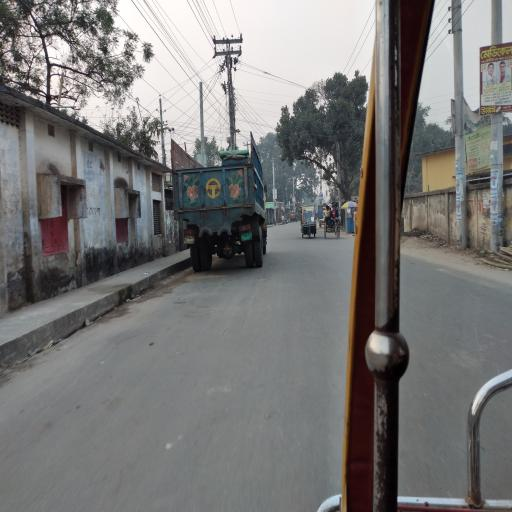auto rickshaw: (301, 205, 319, 240)
bicycle: (283, 215, 287, 227)
motorbike: (286, 218, 289, 225)
pickup: (323, 211, 327, 222)
rickshaw: (325, 203, 343, 241)
truck: (170, 132, 279, 277), (318, 203, 329, 222)
